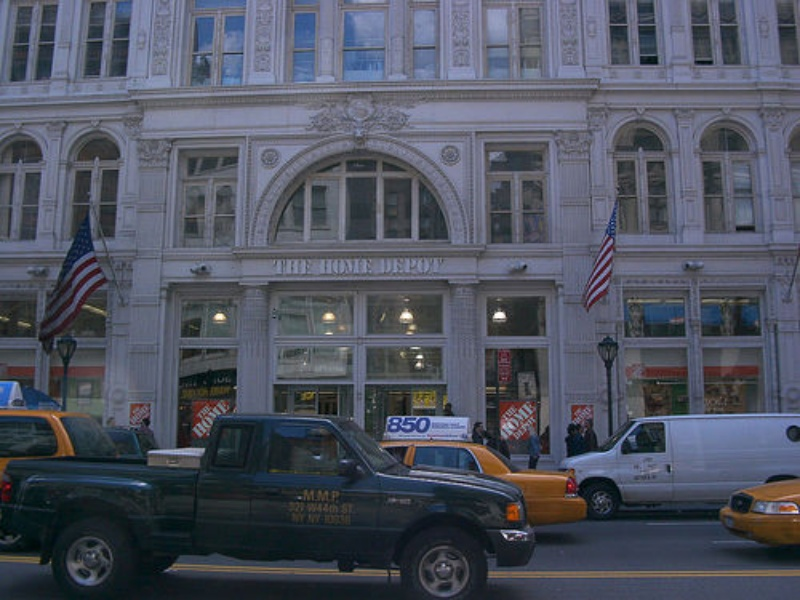car: (1, 413, 535, 600), (558, 411, 800, 520), (375, 439, 586, 527), (1, 408, 121, 481), (721, 478, 800, 545)
person: (528, 426, 540, 471), (583, 418, 597, 449)
